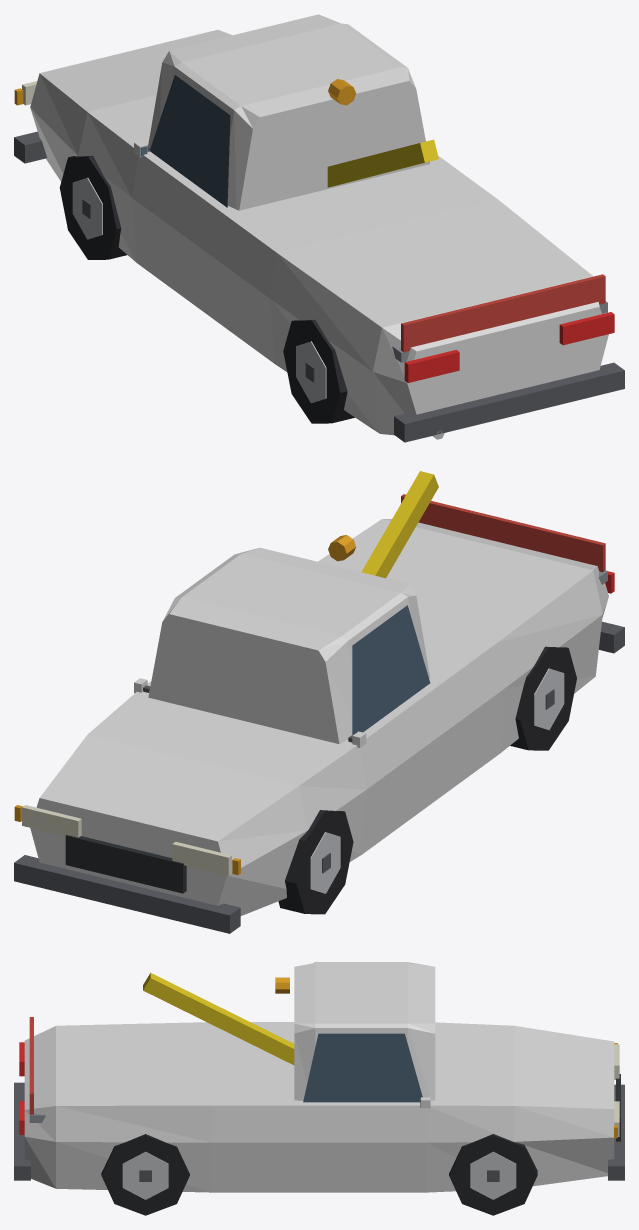
File: towtruck.glb
3 renders of one model, top to bottom at view 1: azimuth 30°, elevation 25°; view 2: azimuth 150°, elevation 25°; view 3: azimuth 270°, elevation 25°, orthographic. The views are drawn at different scales.
Parts seen in each view (by area): view 1: Body, Wheel_RL, Wheel_FL; view 2: Body, Wheel_FL, Wheel_RL; view 3: Body, Wheel_FR, Wheel_RR.
Boxes of the visible parts, x1,y1,x2,y2 form: Body: [14, 14, 624, 442]; Wheel_RL: [283, 319, 354, 423]; Wheel_FL: [59, 155, 126, 259]; Body: [14, 471, 624, 933]; Wheel_FL: [278, 810, 353, 914]; Wheel_RL: [510, 646, 576, 750]; Body: [14, 962, 624, 1192]; Wheel_FR: [449, 1134, 537, 1215]; Wheel_RR: [101, 1134, 189, 1215].
Size of the model in its own units: 2.05 by 2.05 by 5.8.
